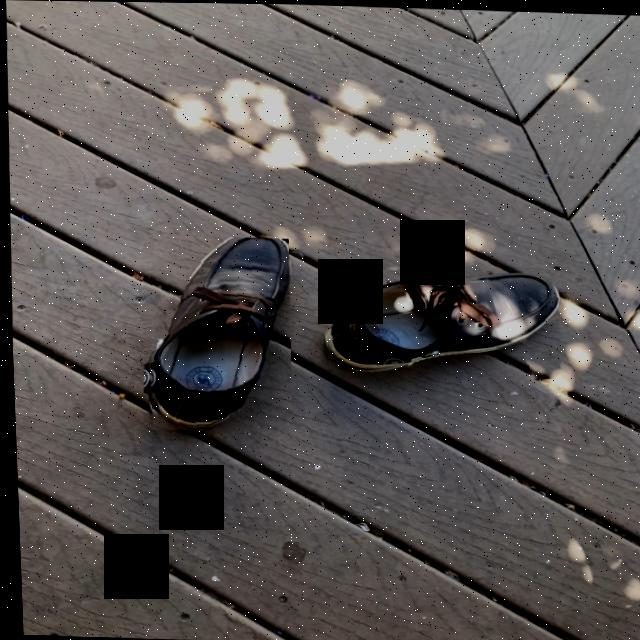shoe: (145, 236, 287, 429), (324, 258, 556, 371)
